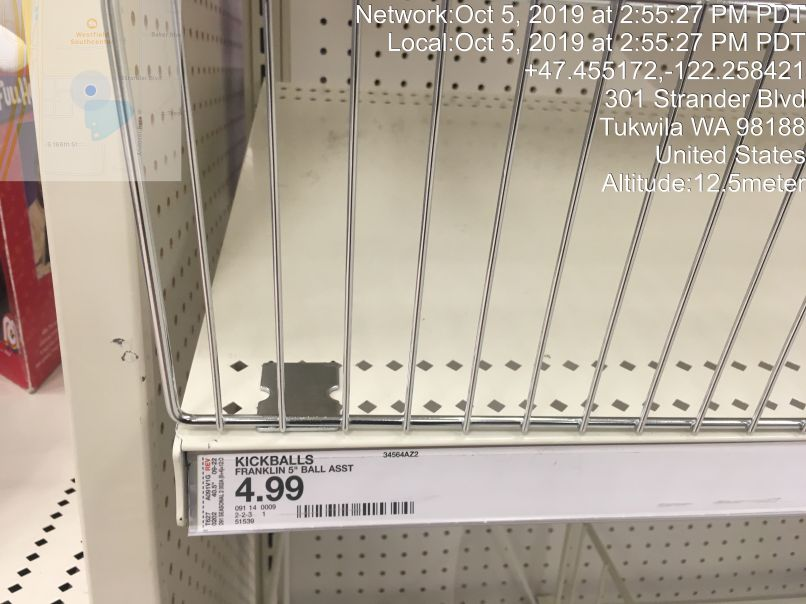Label: (195, 451, 426, 531)
Location: (593, 87, 806, 173)
Time: (350, 4, 806, 56)
Void: (229, 81, 589, 403)
